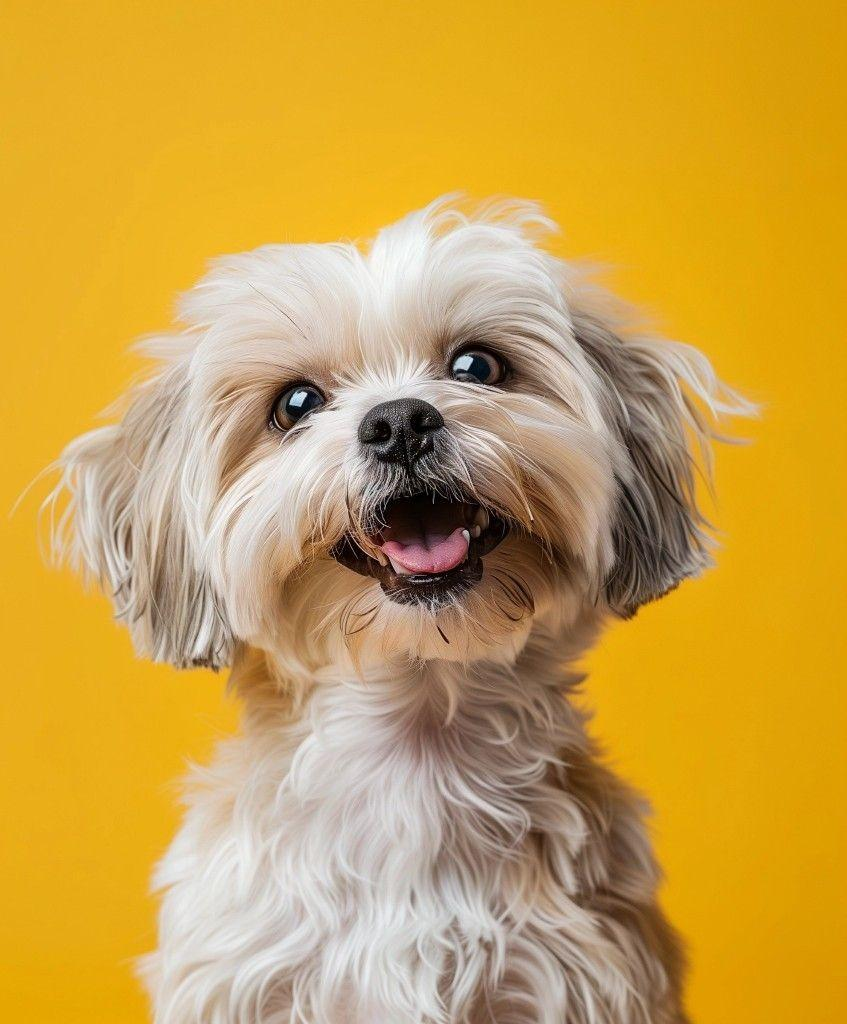adult_dog: (31, 186, 759, 1024)
